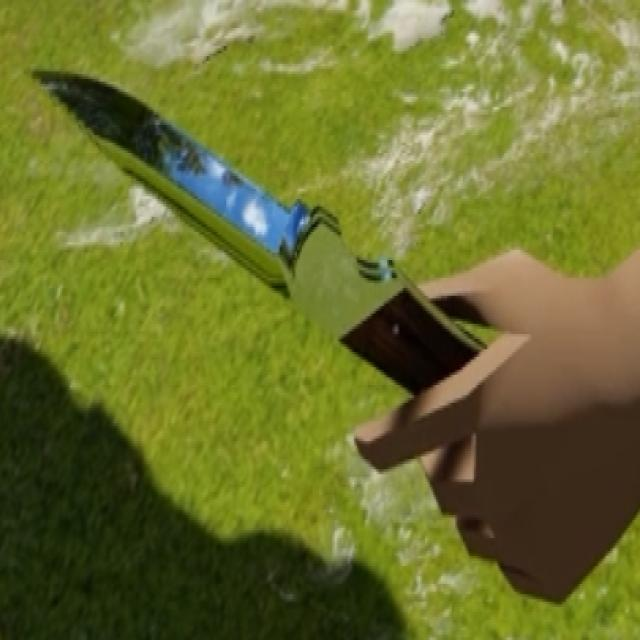knife: (22, 43, 464, 421)
